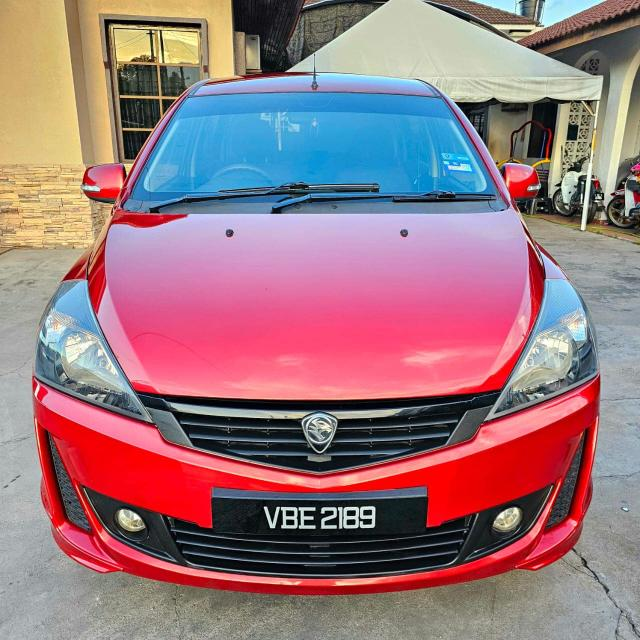License_Plate: (226, 501, 416, 538)
car: (17, 53, 602, 629)
